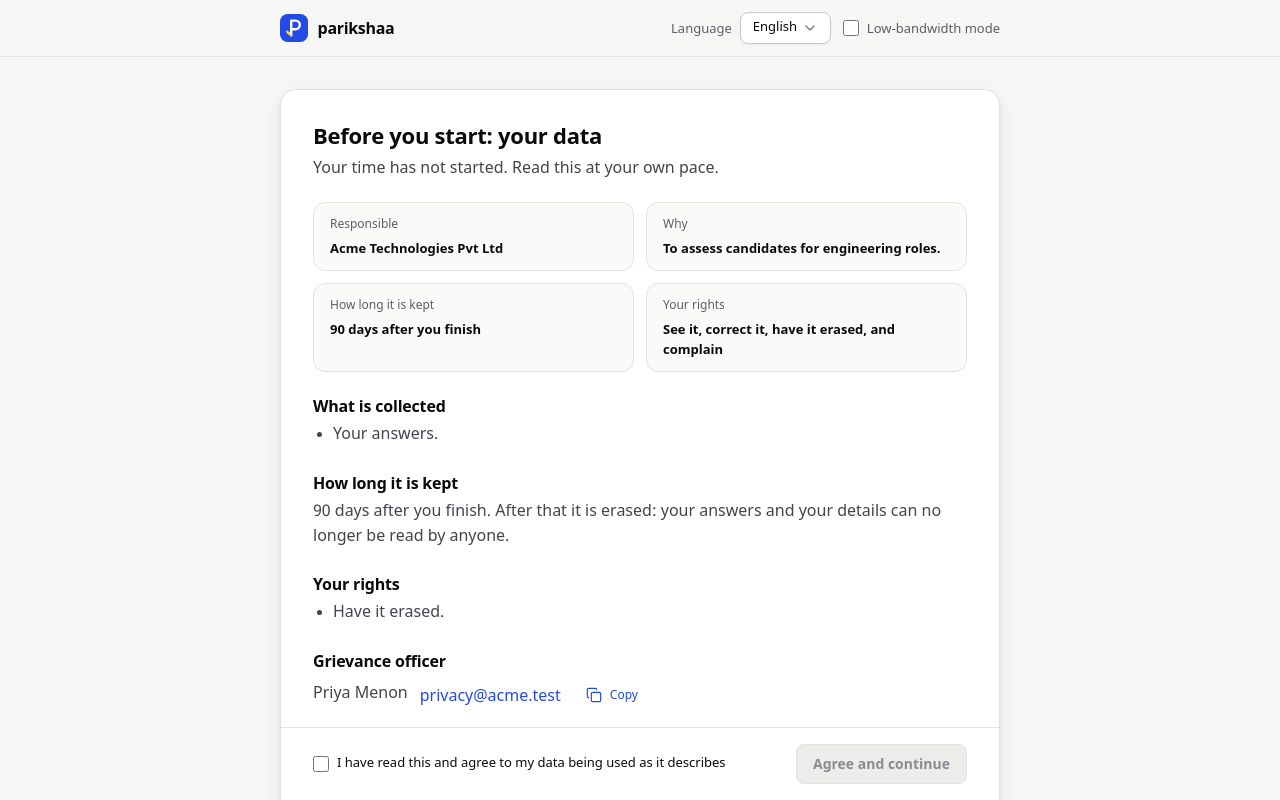
an invitation link › asks for agreement when opening does, if the briefing could not say so first
Expected: the heading "Before you start: your data" is shown, 313,120 -> 602,150
Click the checkbox labelled "agree to my data being used" at (321, 764), box 313,756 -> 329,772
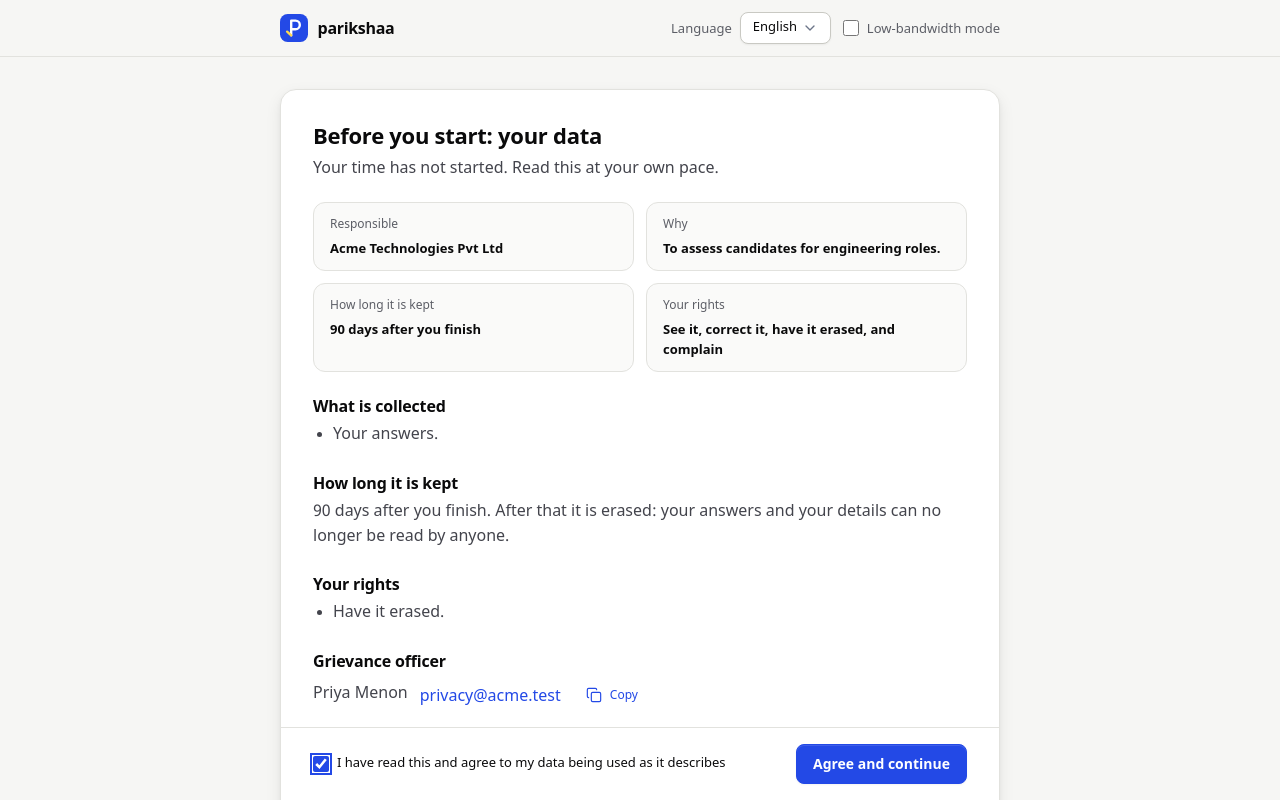
Click the button "Agree and continue" at (882, 764), box 796,744 -> 967,784
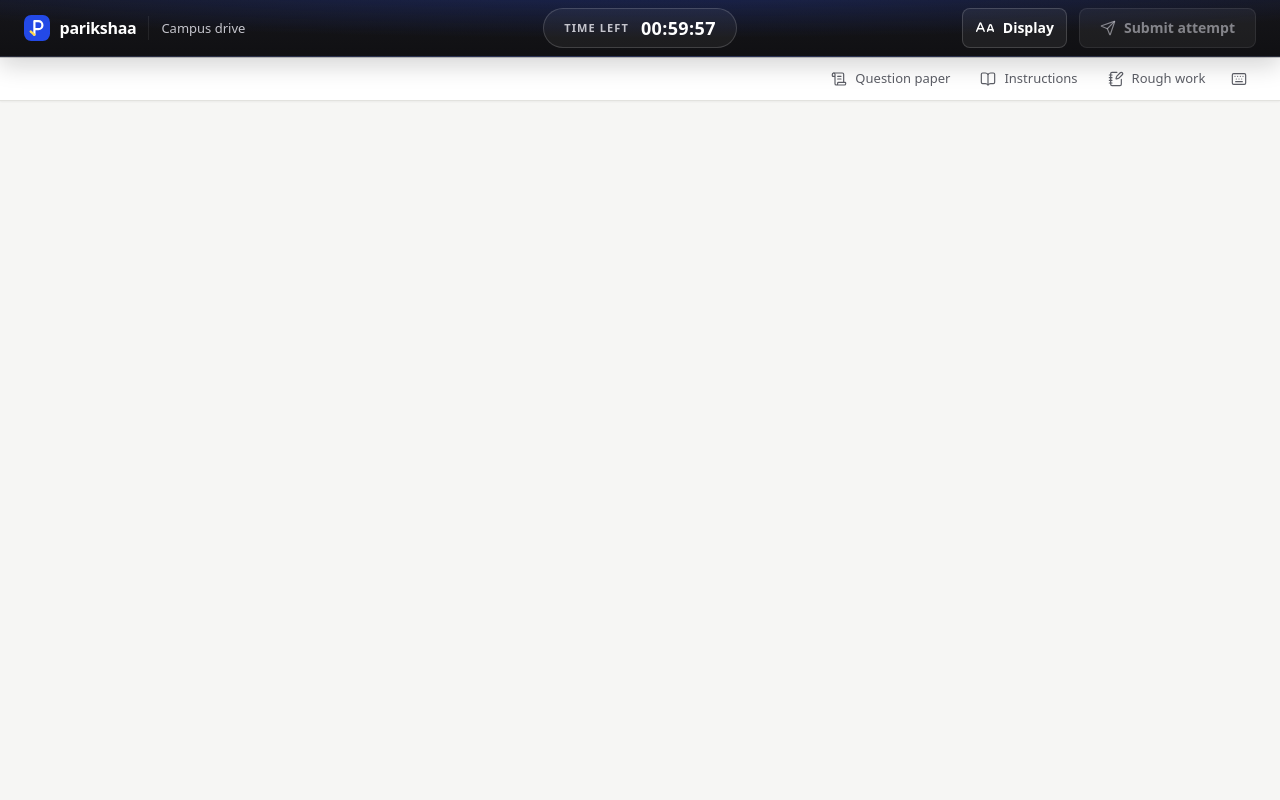
Now the heading "Campus drive" is shown, box 161,20 -> 245,36
